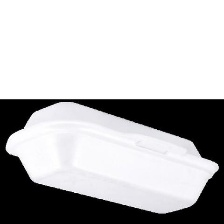foam_box: (0, 99, 224, 218)
